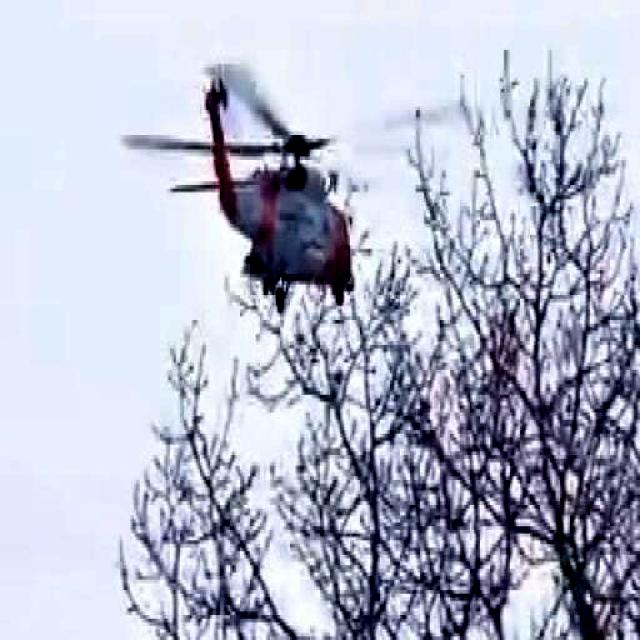drone: (132, 60, 378, 310)
